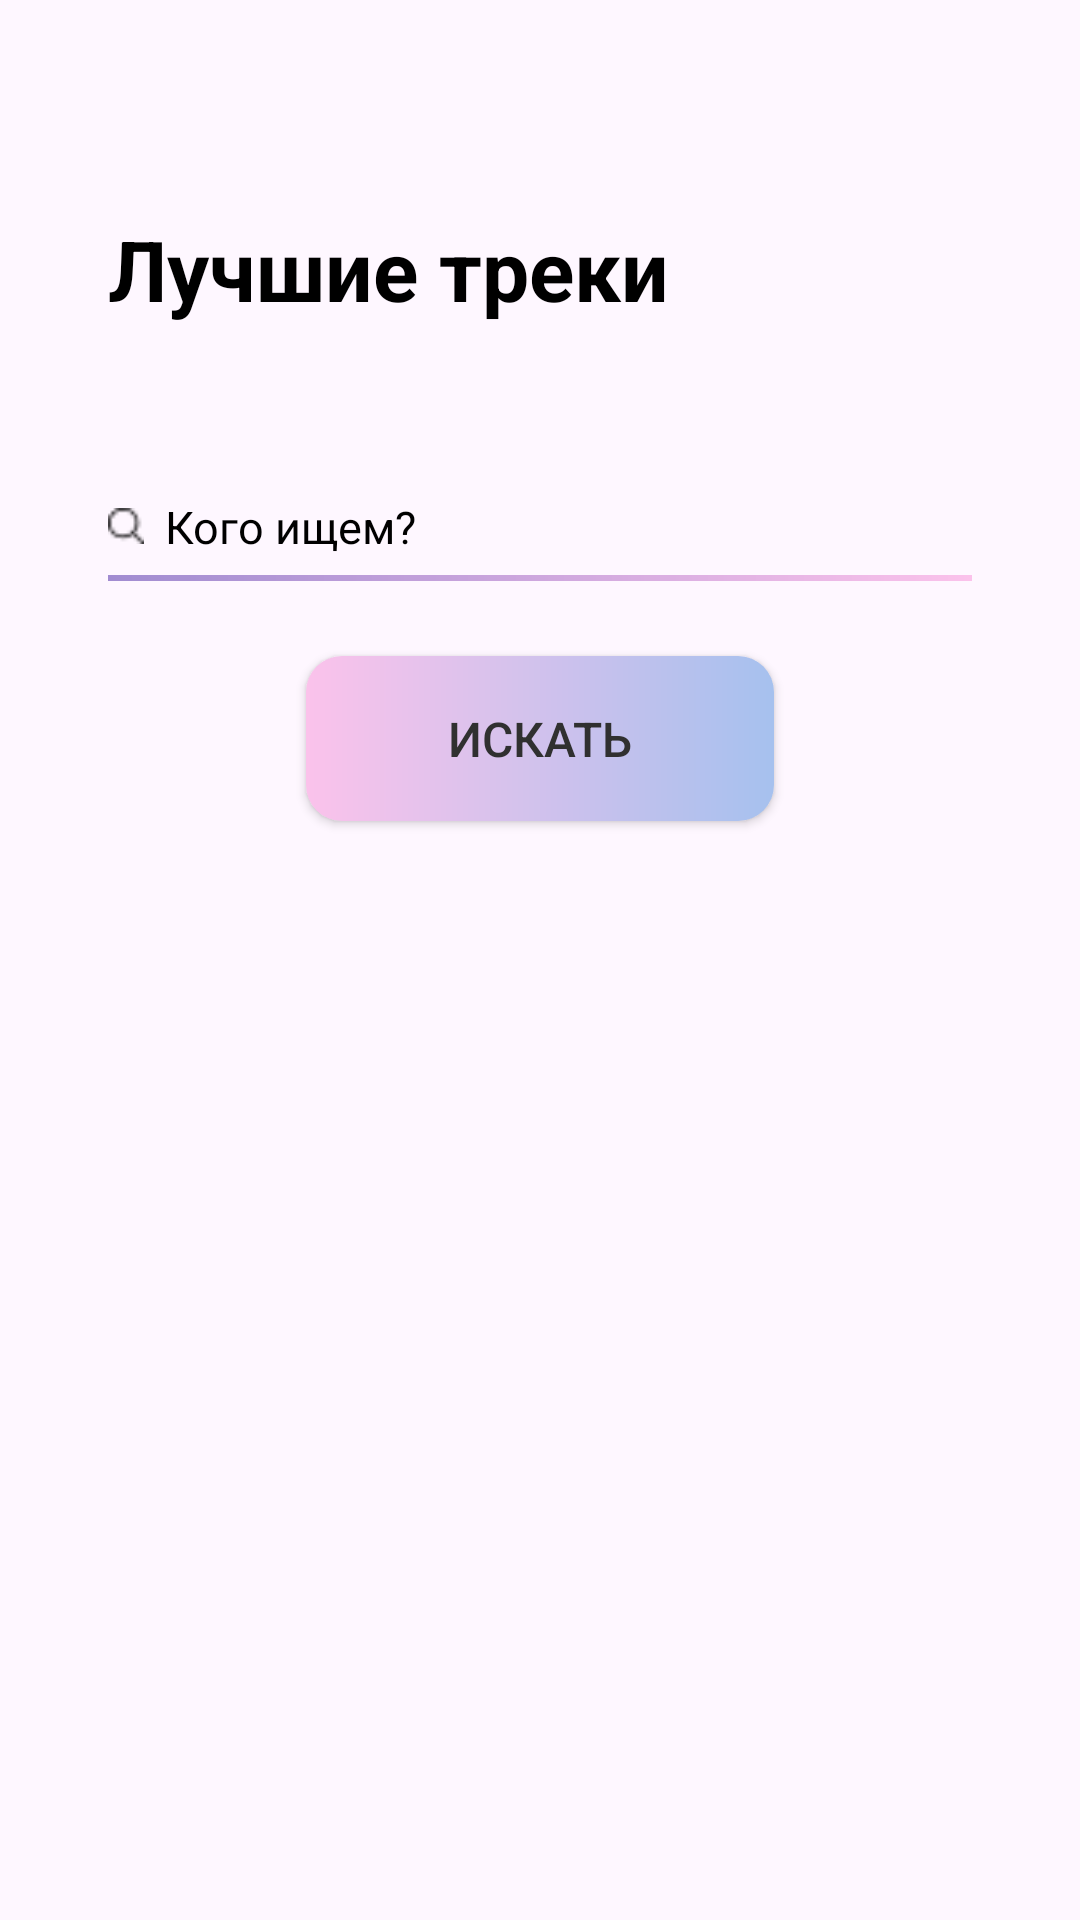

Named icons in this screenshot (1080x1920) and their centers, (x,y):
Изображение лупы: (126,526)
